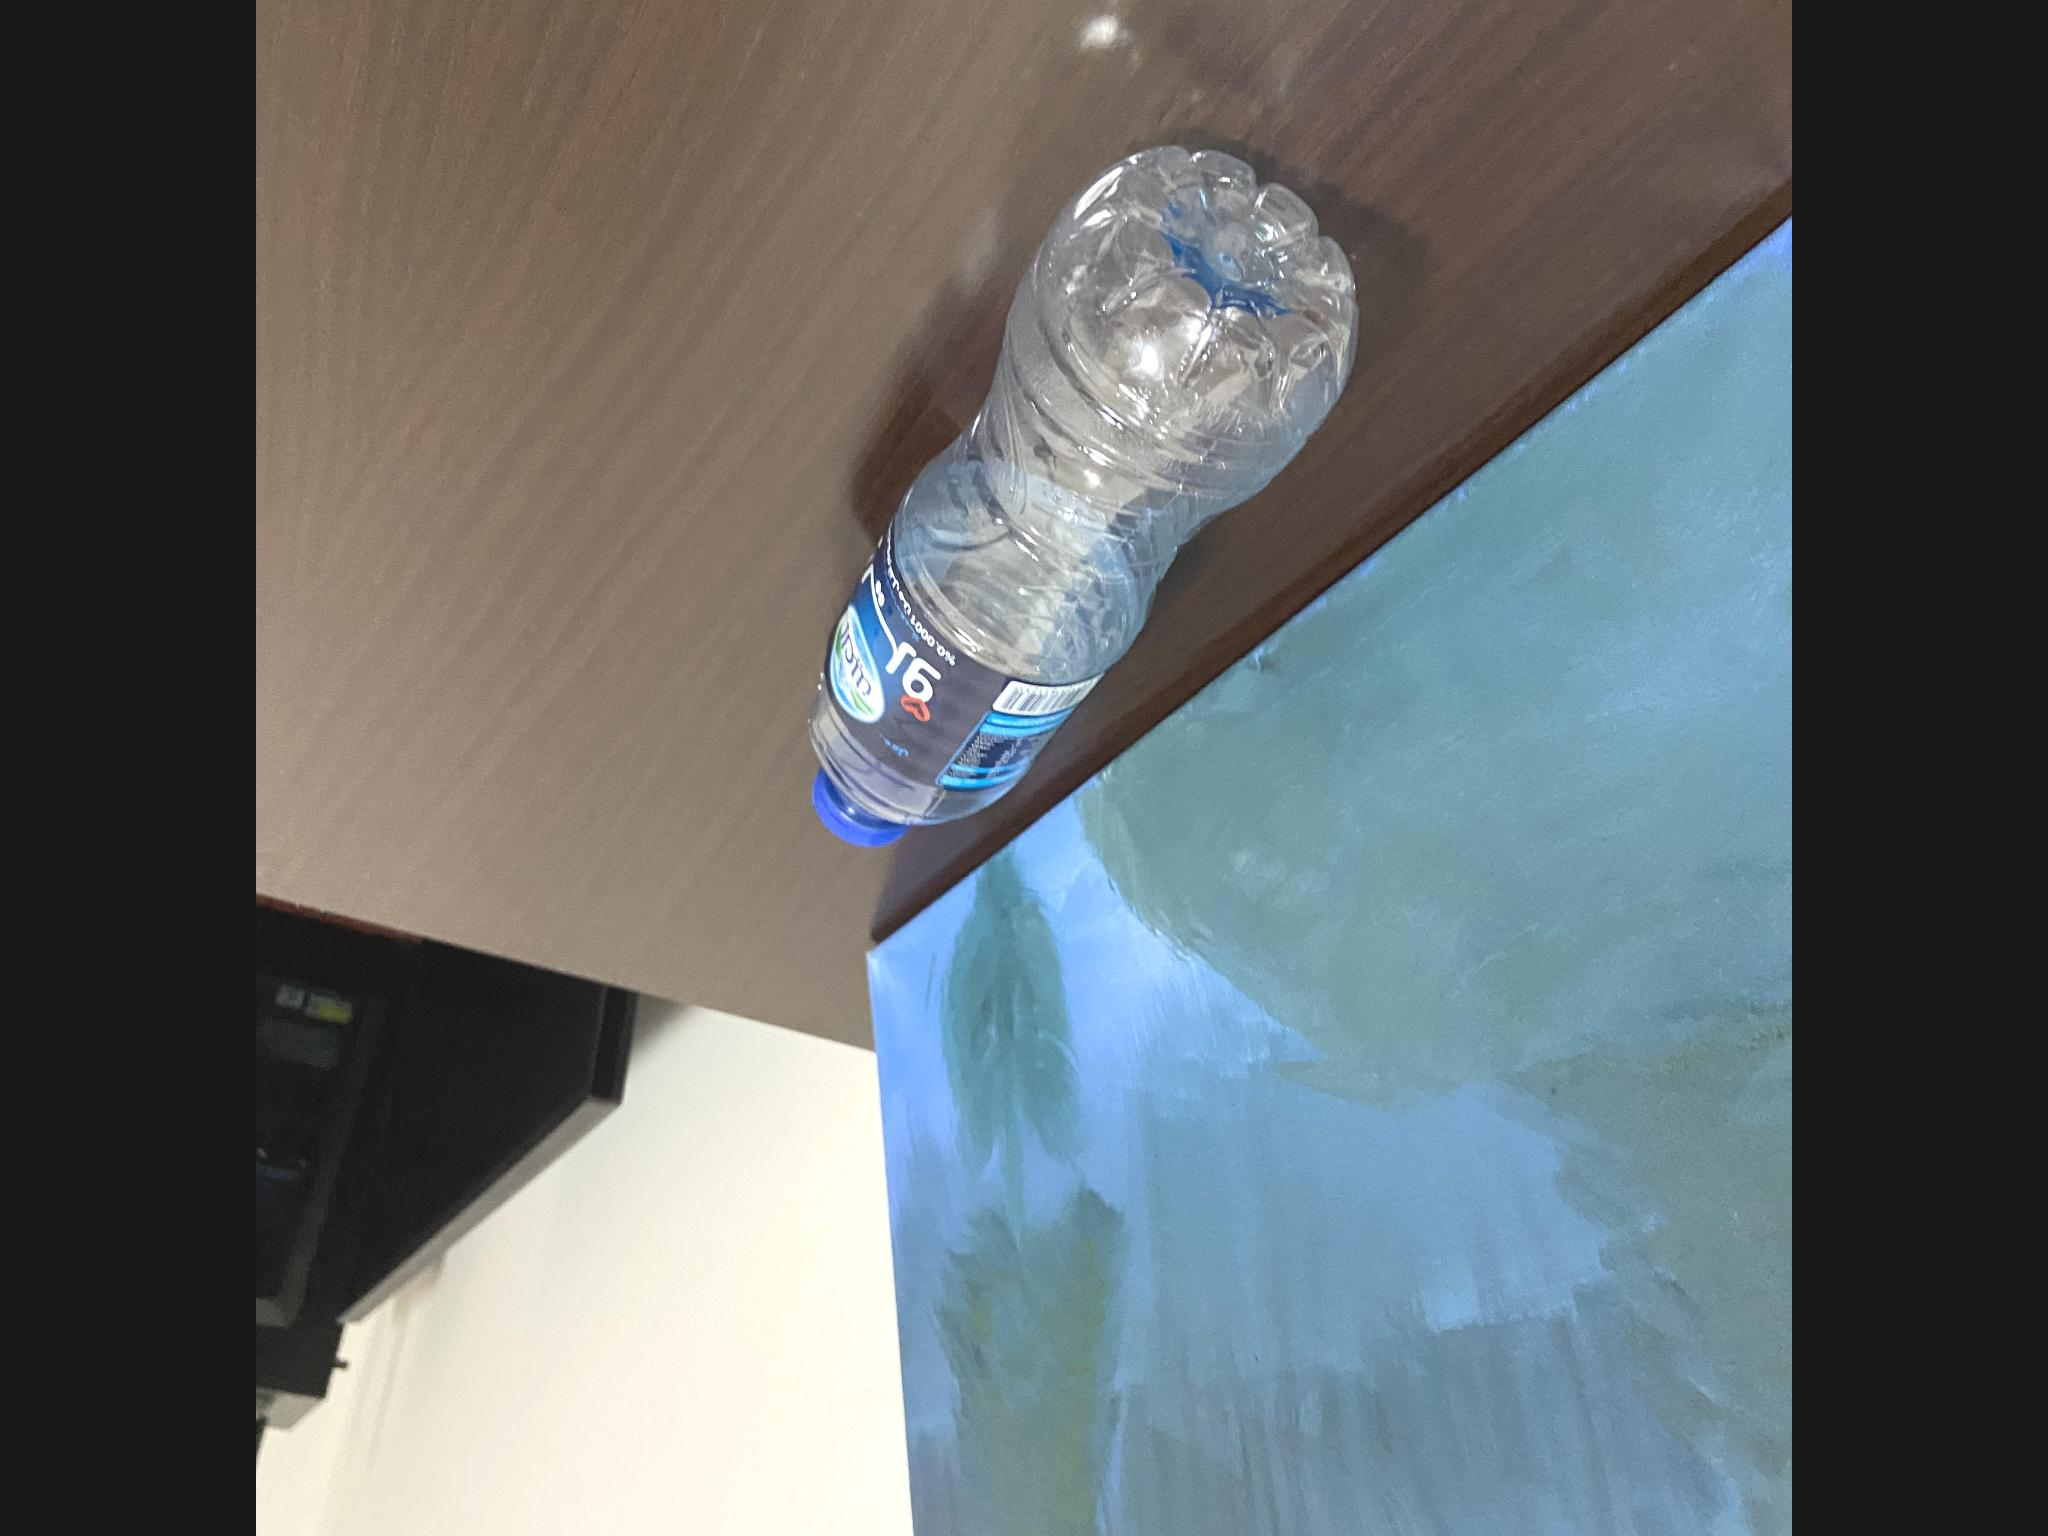bottle: (920, 402, 1532, 1258)
